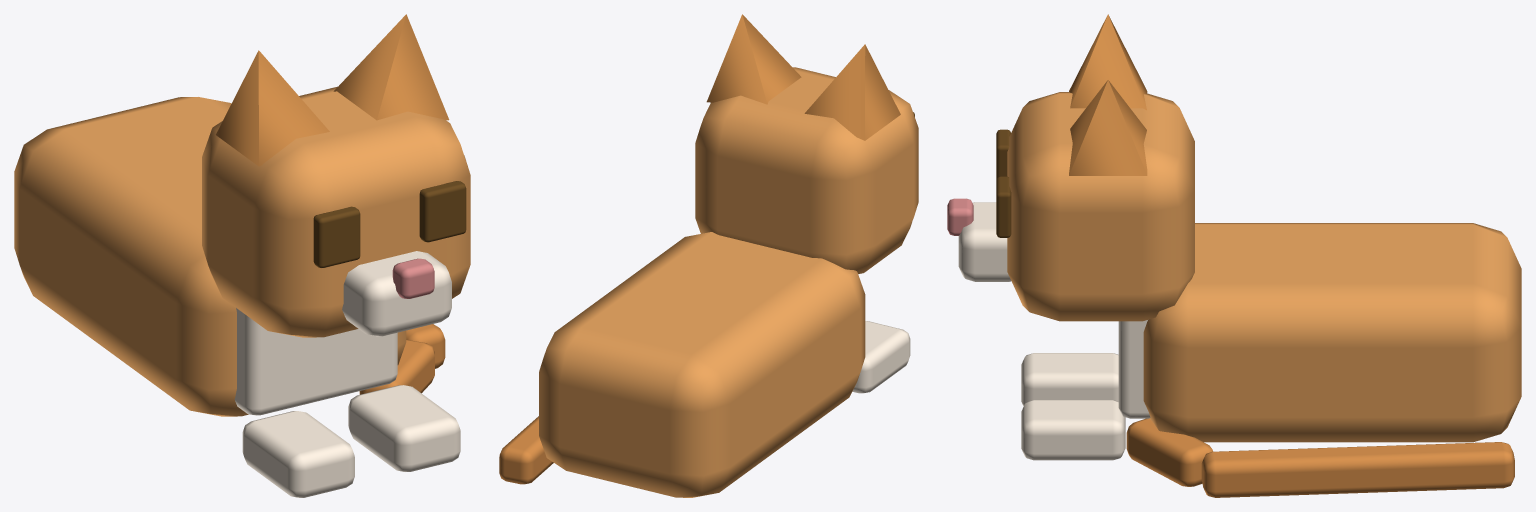
Rendered from base-cat-lying.glb.
The picture shows the model from 3 angles, left to right: view 1: azimuth 30°, elevation 25°; view 2: azimuth 150°, elevation 25°; view 3: azimuth 270°, elevation 25°; orthographic projection. The views are drawn at different scales.
Parts seen in each view (by area): view 1: PM_FUR_MAIN_0_30_-4, PM_FUR_MAIN_0_70_62, PM_FUR_SECONDARY_0_32_51, PM_FUR_SECONDARY_16_7_70, PM_FUR_SECONDARY_-16_7_70, PM_EARS_peak_l, PM_EARS_peak_r, PM_FUR_SECONDARY_0_59_93, PM_EYES_-16_77_90, PM_EYES_16_77_90, PM_TAIL_30_6_42, PM_NOSE_0_67_103 (+1 smaller); view 2: PM_FUR_MAIN_0_30_-4, PM_FUR_MAIN_0_70_62, PM_EARS_peak_l, PM_EARS_peak_r, PM_FUR_SECONDARY_-16_7_70, PM_TAIL_42_6_-12; view 3: PM_FUR_MAIN_0_30_-4, PM_FUR_MAIN_0_70_62, PM_TAIL_42_6_-12, PM_FUR_SECONDARY_16_7_70, PM_EARS_peak_r, PM_FUR_SECONDARY_-16_7_70, PM_EARS_peak_l, PM_TAIL_30_6_42, PM_FUR_SECONDARY_0_59_93, PM_FUR_SECONDARY_0_32_51, PM_EYES_16_77_90, PM_NOSE_0_67_103.
Boxes of the visible parts, box(x1,y1,x2,y2) form: PM_FUR_MAIN_0_30_-4: box(14, 97, 406, 416); PM_FUR_MAIN_0_70_62: box(202, 86, 470, 337); PM_FUR_SECONDARY_0_32_51: box(234, 308, 397, 415); PM_FUR_SECONDARY_16_7_70: box(348, 385, 460, 471); PM_FUR_SECONDARY_-16_7_70: box(242, 411, 354, 497); PM_EARS_peak_l: box(216, 50, 329, 166); PM_EARS_peak_r: box(333, 14, 449, 120); PM_FUR_SECONDARY_0_59_93: box(342, 251, 451, 336); PM_EYES_-16_77_90: box(313, 206, 360, 267); PM_EYES_16_77_90: box(419, 181, 466, 242); PM_TAIL_30_6_42: box(359, 340, 434, 394); PM_NOSE_0_67_103: box(392, 258, 434, 298); PM_FUR_MAIN_0_30_-4: box(539, 232, 865, 497); PM_FUR_MAIN_0_70_62: box(695, 67, 918, 273); PM_EARS_peak_l: box(804, 44, 900, 140); PM_EARS_peak_r: box(706, 14, 801, 104); PM_FUR_SECONDARY_-16_7_70: box(852, 321, 910, 393); PM_TAIL_42_6_-12: box(499, 416, 553, 484); PM_FUR_MAIN_0_30_-4: box(1143, 223, 1521, 442); PM_FUR_MAIN_0_70_62: box(1007, 92, 1194, 321); PM_TAIL_42_6_-12: box(1201, 442, 1514, 497); PM_FUR_SECONDARY_16_7_70: box(1021, 400, 1125, 460); PM_EARS_peak_r: box(1069, 80, 1147, 175); PM_FUR_SECONDARY_-16_7_70: box(1021, 353, 1118, 406); PM_EARS_peak_l: box(1069, 14, 1147, 110); PM_TAIL_30_6_42: box(1126, 418, 1212, 486); PM_FUR_SECONDARY_0_59_93: box(958, 202, 1011, 281); PM_FUR_SECONDARY_0_32_51: box(1118, 320, 1150, 418); PM_EYES_16_77_90: box(996, 176, 1011, 237); PM_NOSE_0_67_103: box(947, 198, 973, 235).
Bounding box in the file's own units: 0.0853 × 0.1208 × 0.1653.
